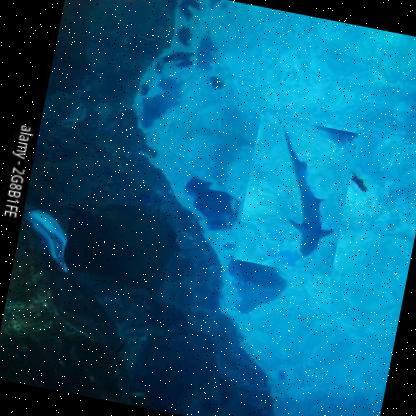zebra_shark: (231, 114, 357, 278)
